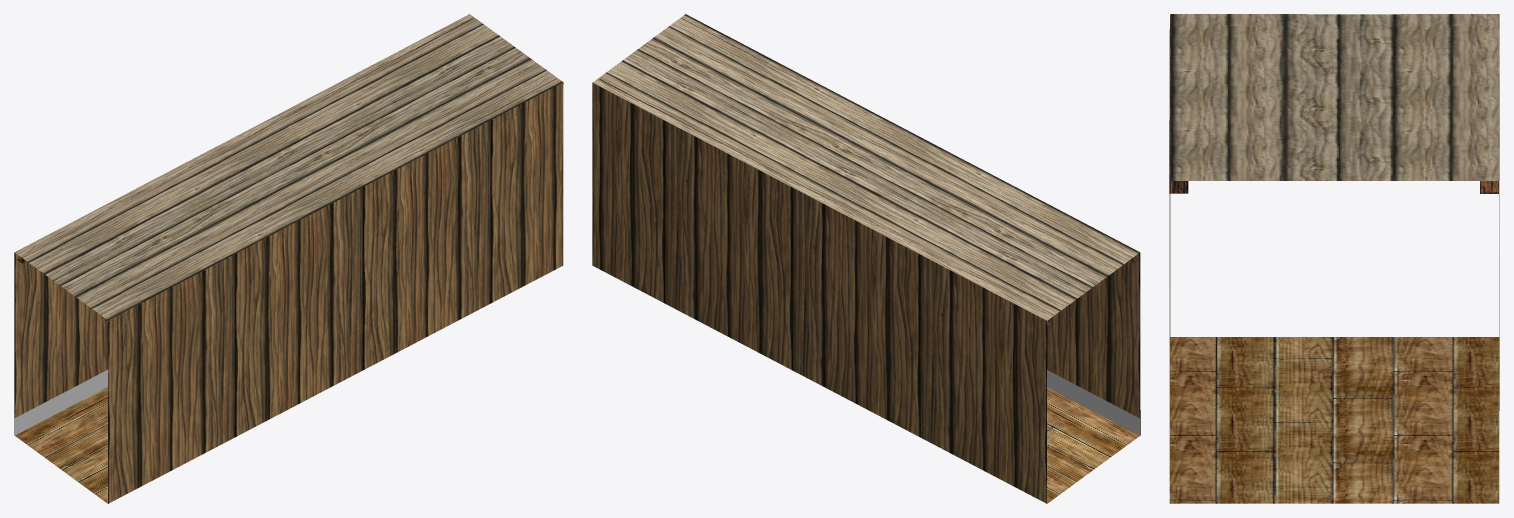
File: LAKETOWN_WAREHOUSE2_PS_WH2_HALLWAY994847__GX.obj
3 views of the same model, side by side, from view 1: azimuth 30°, elevation 25°; view 2: azimuth 150°, elevation 25°; view 3: azimuth 270°, elevation 25° (orthographic). The views are drawn at different scales.
Visible parts, largest first — view 1: llway994847__GX; view 2: llway994847__GX; view 3: llway994847__GX.
Part boxes in pixels (x1=…): llway994847__GX: x1=14, y1=14, x2=563, y2=503; llway994847__GX: x1=592, y1=14, x2=1140, y2=503; llway994847__GX: x1=1169, y1=14, x2=1499, y2=503.
Size of the model in its own units: 843 by 550 by 301.
